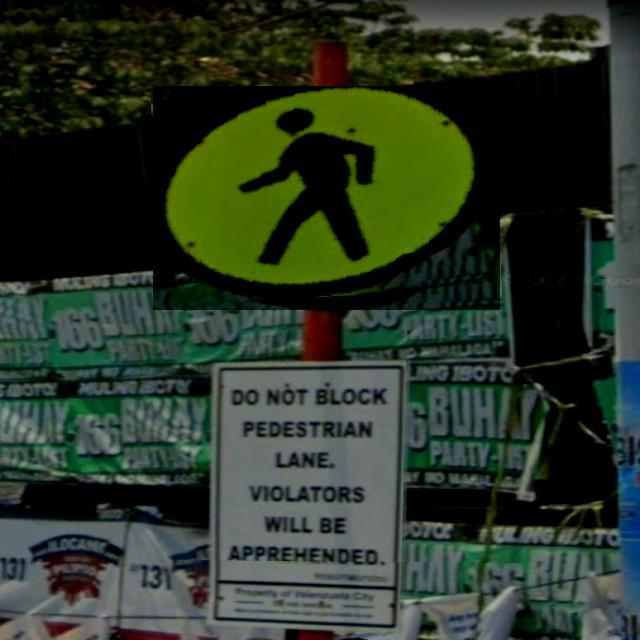pedestrian crossing: (153, 86, 500, 310)
